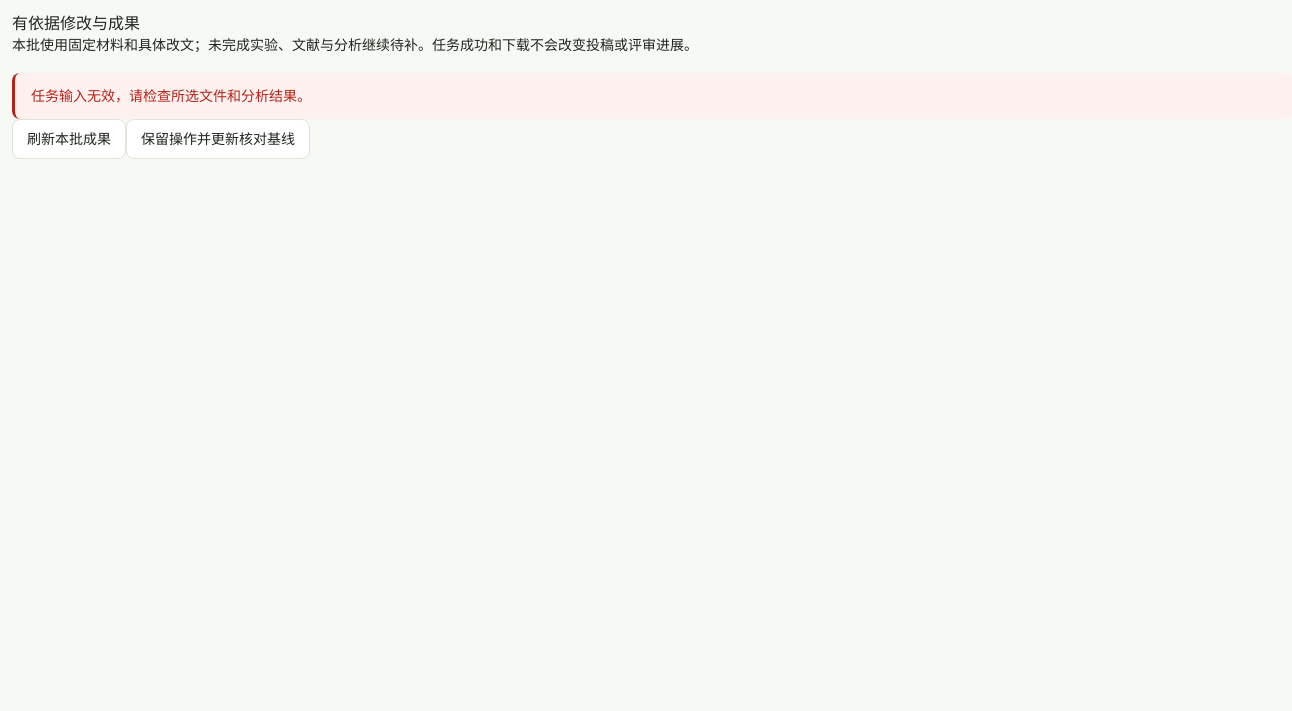
Test: waits for the initial plan and clears a recovered revision-context read error
Check: the message "任务输入无效，请检查所选文件和分析结果。" is shown, box top-left (12, 73), bottom-right (1291, 119)
Click the button "保留操作并更新核对基线" at (218, 139), box top-left (126, 119), bottom-right (310, 159)
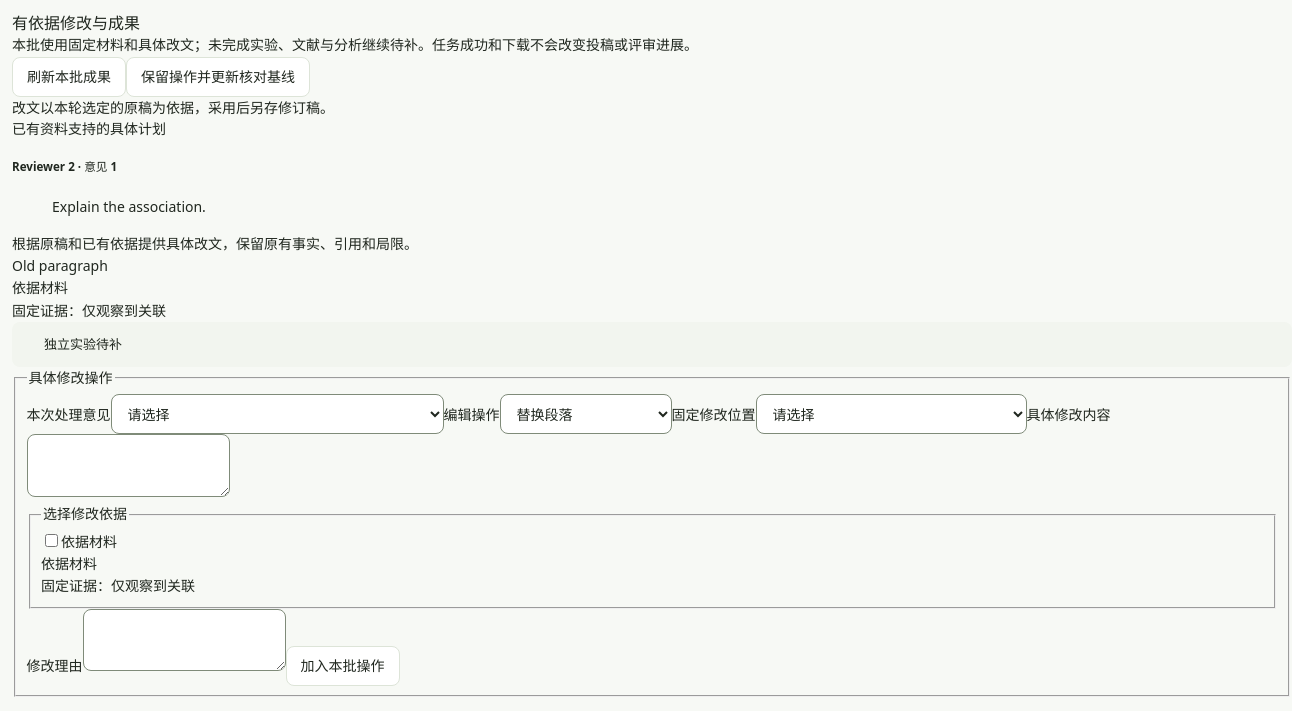
Check: the heading "已有资料支持的具体计划" is shown, box top-left (12, 119), bottom-right (166, 138)
Check: the message "任务输入无效，请检查所选文件和分析结果。" is gone
